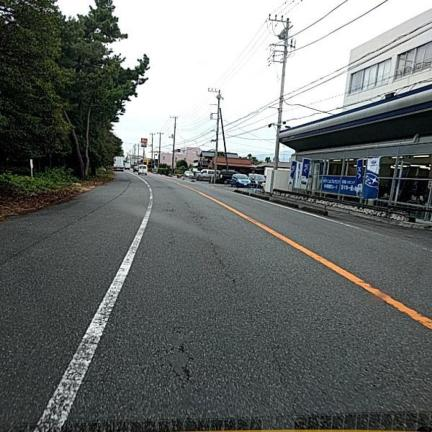Road: (0, 173, 431, 429)
